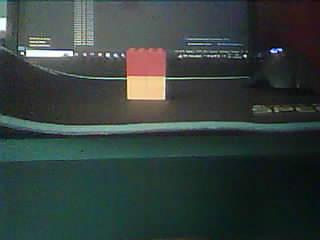lego: (126, 47, 166, 101)
